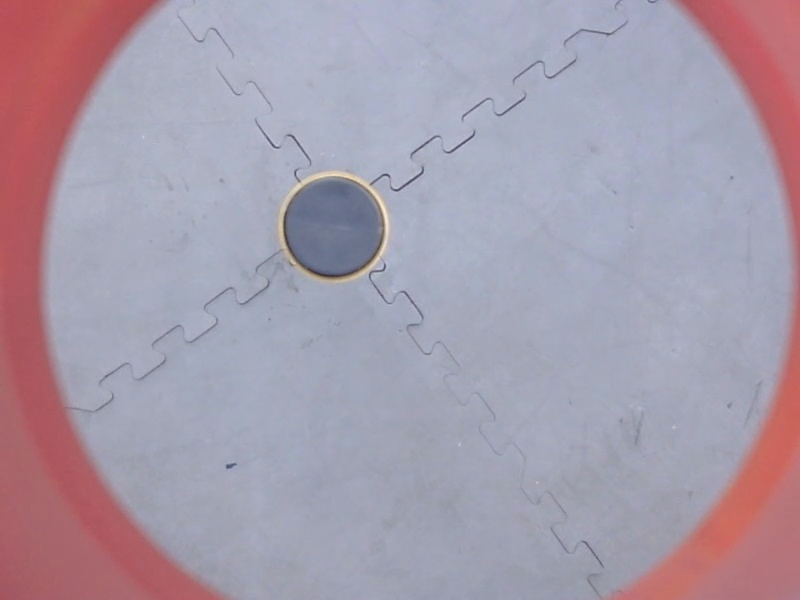tip: (275, 168, 398, 289)
